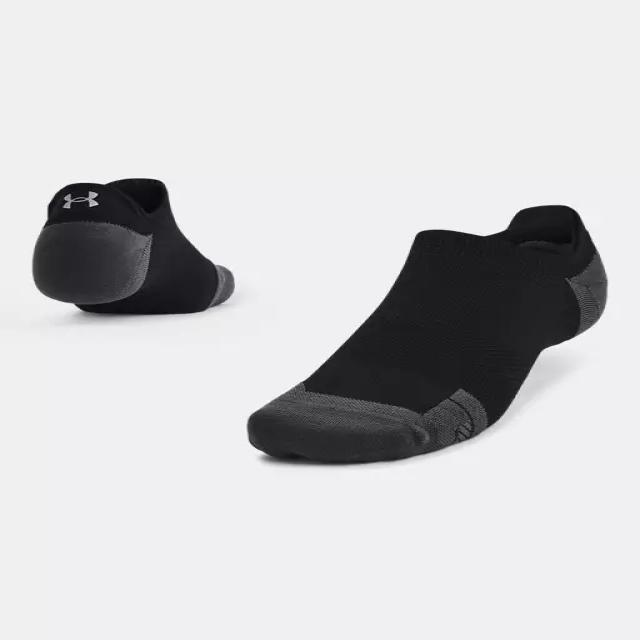sock: (247, 203, 608, 464), (31, 176, 235, 314)
